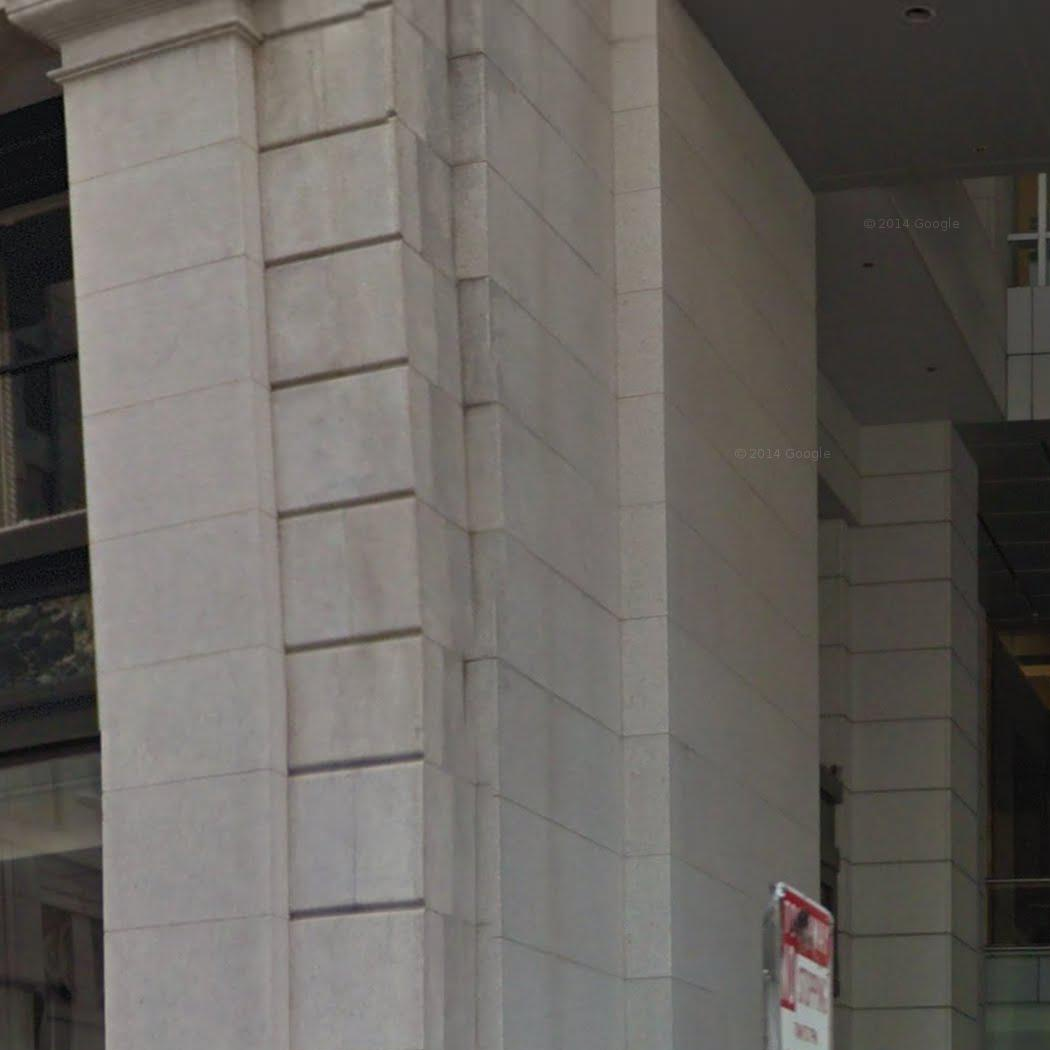No Parking: (773, 882, 836, 1047)
